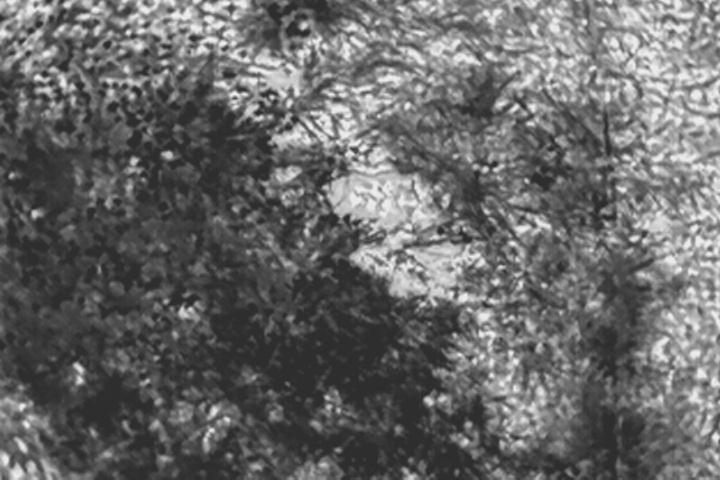landmine: (340, 160, 429, 225)
